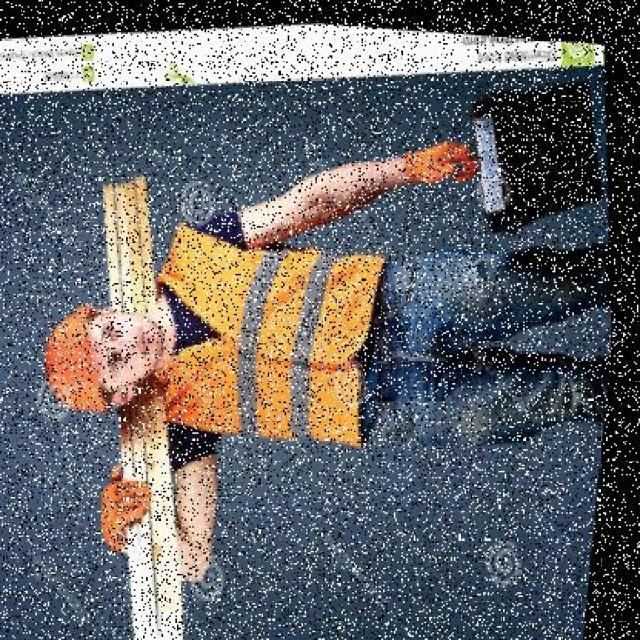helmet: (43, 283, 126, 425)
vest: (136, 208, 421, 470)
